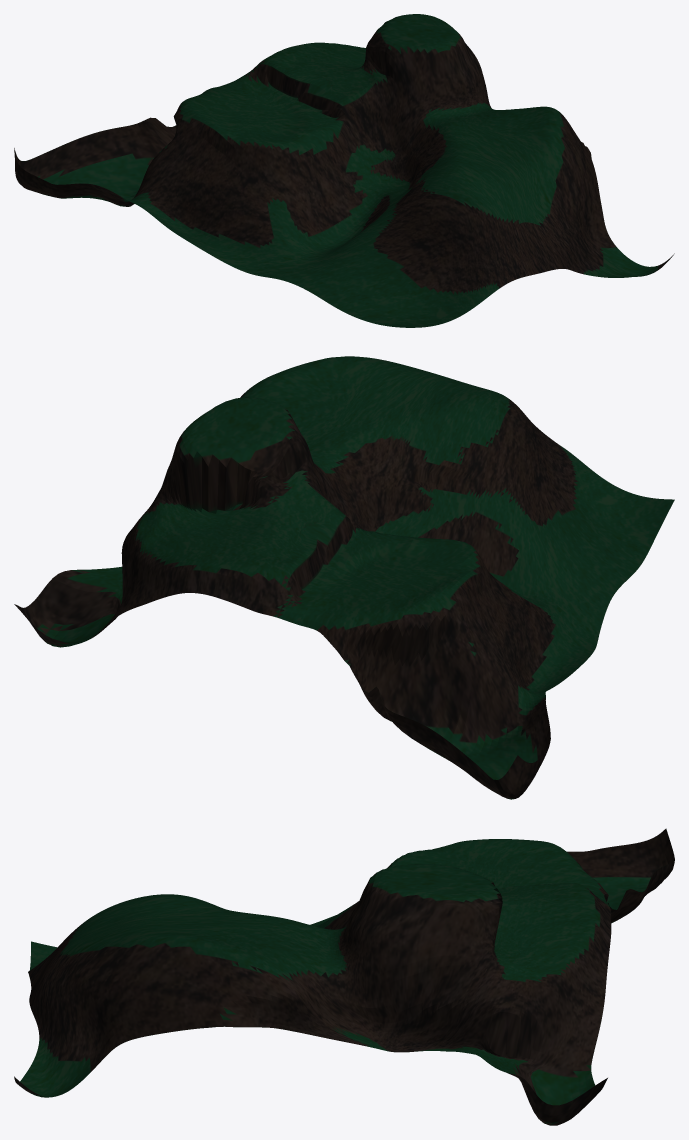
File: terrain.glb
3 renders of one model, top to bottom at view 1: azimuth 30°, elevation 25°; view 2: azimuth 150°, elevation 25°; view 3: azimuth 270°, elevation 25°, orthographic. The views are drawn at different scales.
Parts seen in each view (by area): view 1: bake-col; view 2: bake-col; view 3: bake-col.
Part boxes in pixels (box(x1,y1,x2,y2)): bake-col: box(14, 14, 674, 327); bake-col: box(14, 356, 674, 799); bake-col: box(14, 828, 674, 1125).
Bounding box in the file's own units: 200 × 70.18 × 220.
Materials: 1 (1 with a texture image).
